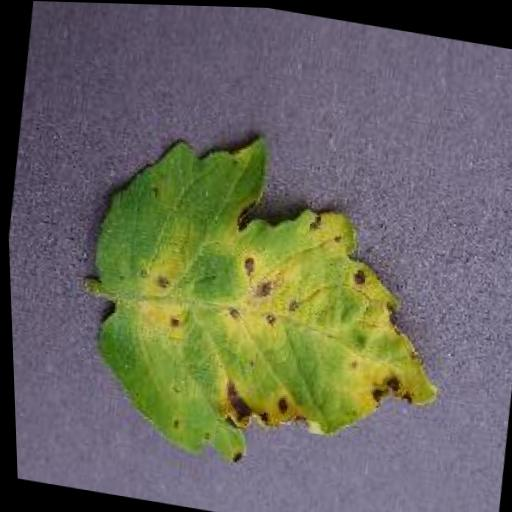Septoria: (63, 100, 476, 497)
